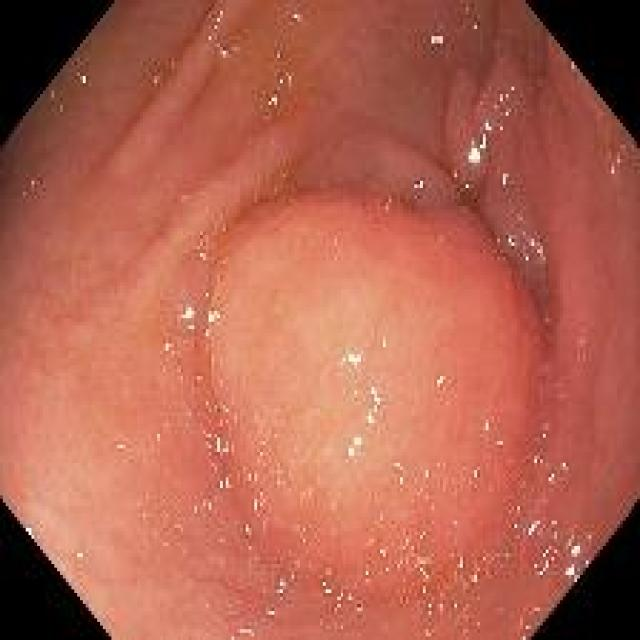Polyps: (209, 191, 545, 638)
